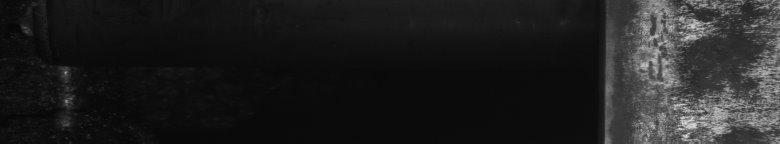kb: (626, 4, 776, 136)
